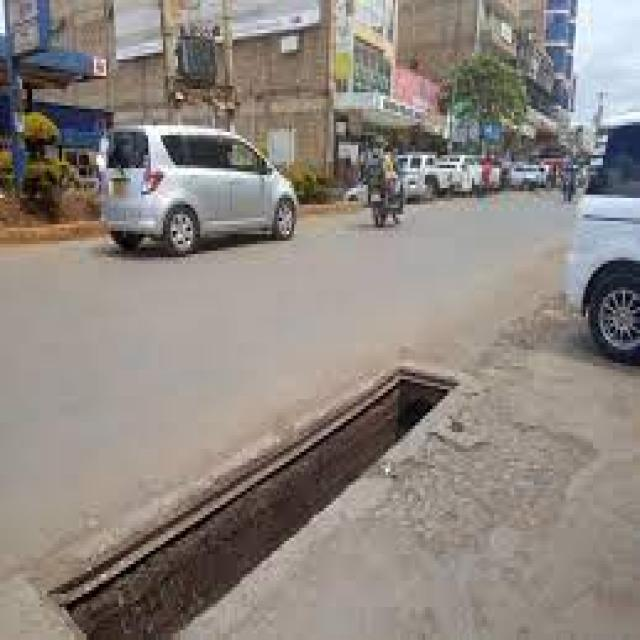Car: (106, 129, 297, 256)
